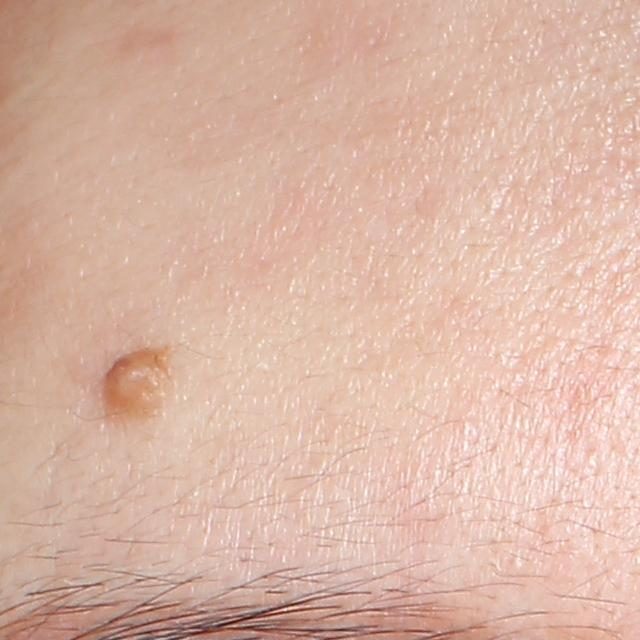other: (86, 331, 179, 433)
